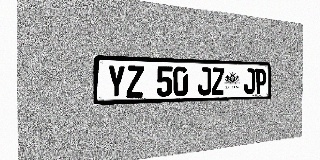0: (173, 67, 188, 96)
5: (157, 66, 172, 97)
J: (198, 67, 211, 95), (244, 68, 255, 94)
P: (255, 69, 266, 94)
Y: (107, 65, 125, 98)
Z: (126, 65, 143, 98), (212, 68, 224, 95)
